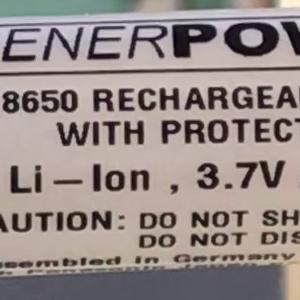keyword: (187, 150, 294, 200)
